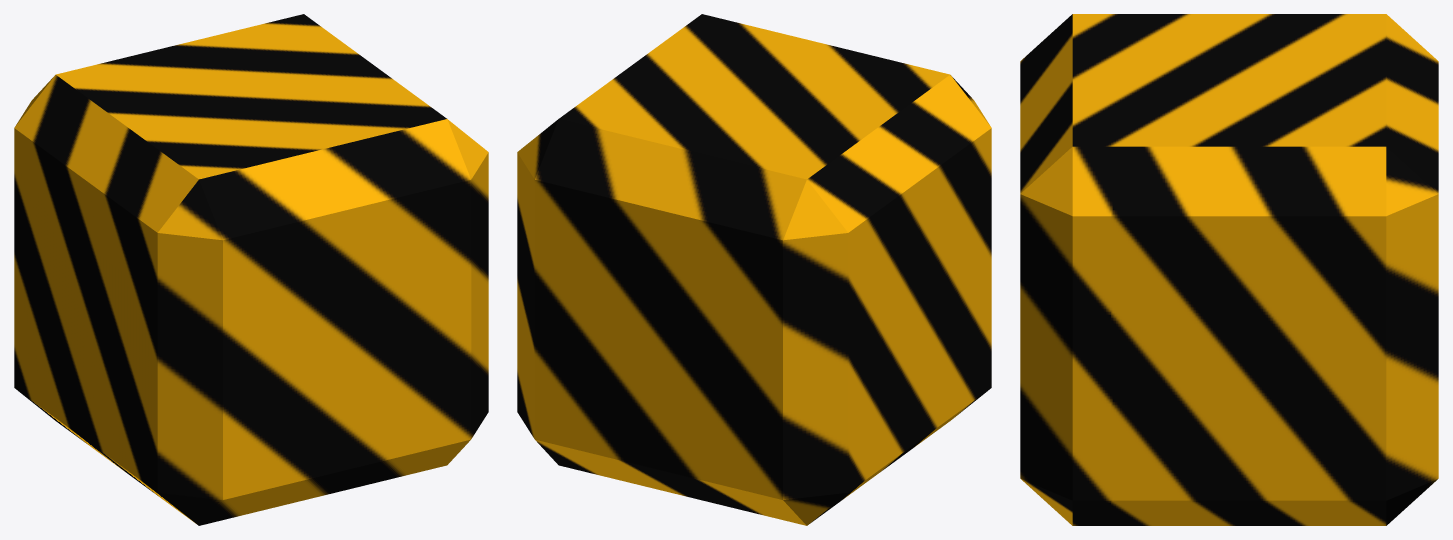
The model's file is Bevel_0.fbx.
The picture shows the model from 3 angles, left to right: view 1: azimuth 30°, elevation 25°; view 2: azimuth 150°, elevation 25°; view 3: azimuth 270°, elevation 25°; orthographic projection. The views are drawn at different scales.
Parts seen in each view (by area): view 1: Bevel_0; view 2: Bevel_0; view 3: Bevel_0.
Boxes of the visible parts, bbox=[...] form: Bevel_0: bbox=[14, 14, 488, 525]; Bevel_0: bbox=[517, 14, 991, 525]; Bevel_0: bbox=[1020, 14, 1438, 525].
Bounding box in the file's own units: 10000 × 10000 × 10000.
